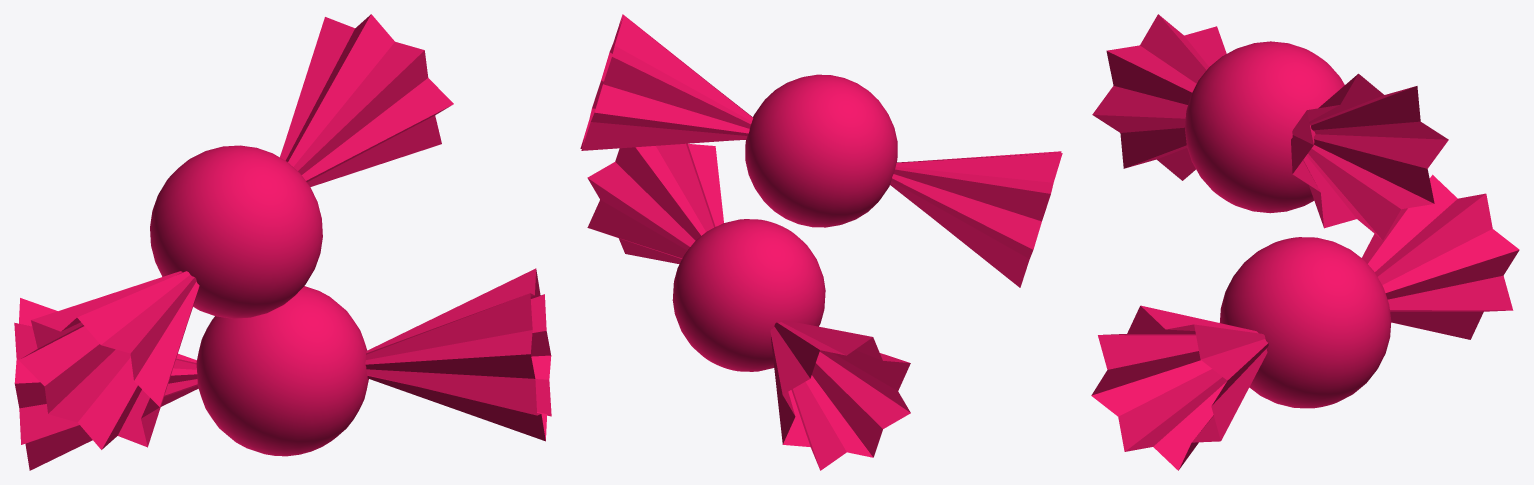
The model's file is candykansei.fbx.
3 views of the same model, side by side, from view 1: azimuth 30°, elevation 25°; view 2: azimuth 150°, elevation 25°; view 3: azimuth 270°, elevation 25° (orthographic). The views are drawn at different scales.
Visible parts, largest first — view 1: 球.001; view 2: 球.001; view 3: 球.001.
Boxes of the visible parts, x1,y1,x2,y2 form: 球.001: [14, 14, 551, 470]; 球.001: [580, 14, 1062, 470]; 球.001: [1091, 14, 1519, 470].
Size of the model in its own units: 487 by 361 by 349.
1 material, 1 textured.
